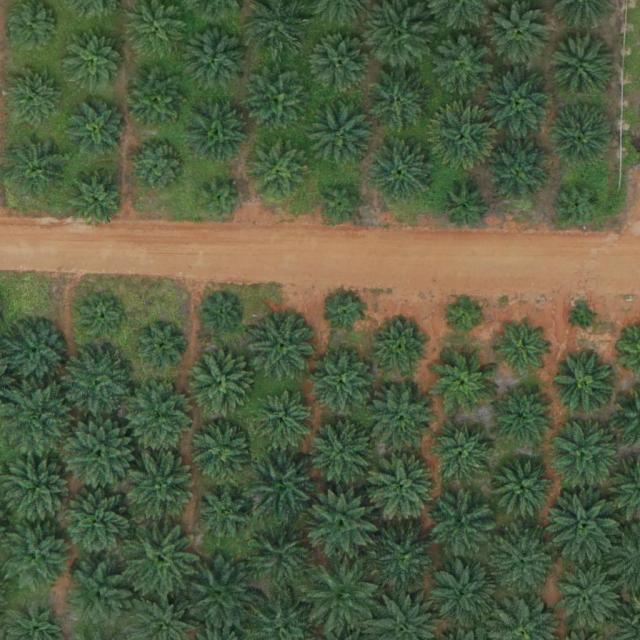Healthy: (60, 486, 138, 565), (123, 449, 201, 528), (123, 521, 201, 600), (183, 556, 261, 635), (243, 444, 321, 523), (242, 518, 320, 597), (305, 487, 383, 566), (304, 561, 382, 640), (544, 489, 622, 568), (365, 451, 443, 529), (429, 106, 499, 177), (5, 456, 75, 527), (61, 345, 131, 416), (64, 418, 134, 489), (62, 563, 133, 633), (125, 382, 195, 453), (550, 416, 620, 487), (484, 68, 554, 138), (4, 522, 74, 592), (552, 564, 622, 634), (549, 34, 612, 97), (552, 105, 615, 168), (310, 34, 373, 97), (310, 102, 373, 165), (127, 69, 190, 132), (65, 167, 128, 230), (190, 351, 253, 414), (254, 314, 317, 377), (250, 390, 313, 453), (370, 386, 433, 449), (375, 528, 438, 591), (434, 353, 497, 416), (434, 561, 497, 624), (554, 350, 617, 413), (490, 5, 553, 67), (488, 142, 550, 205), (369, 74, 431, 137), (371, 141, 433, 204), (249, 70, 311, 133), (249, 140, 311, 203), (186, 28, 248, 91), (187, 104, 249, 167), (64, 32, 126, 95), (4, 322, 66, 385), (190, 423, 252, 486), (194, 483, 257, 545), (311, 350, 373, 413), (311, 420, 373, 483), (431, 424, 493, 487), (432, 496, 494, 559), (492, 385, 554, 448), (493, 458, 555, 521), (491, 530, 553, 593), (432, 36, 494, 98), (7, 136, 69, 198), (131, 140, 186, 195), (377, 321, 432, 376), (495, 323, 550, 378), (72, 103, 126, 158), (7, 67, 61, 122), (442, 186, 489, 233)
Small: (79, 296, 126, 344), (140, 324, 187, 371), (556, 182, 603, 229), (320, 182, 367, 229), (197, 177, 244, 224), (328, 293, 367, 333), (444, 294, 483, 334), (203, 295, 242, 334), (574, 307, 597, 331)
